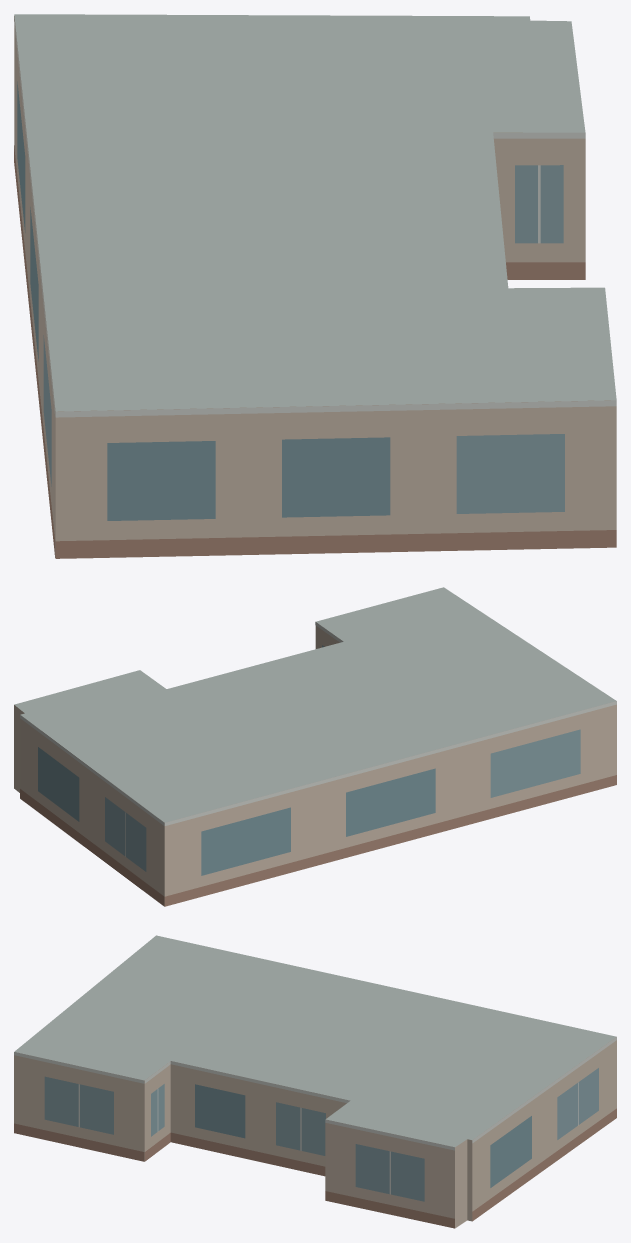
Rendered from survey-upis-32543907.glb.
3 views of the same model, one above another, from view 1: azimuth 30°, elevation 25°; view 2: azimuth 150°, elevation 25°; view 3: azimuth 270°, elevation 25° (orthographic). The views are drawn at different scales.
Parts seen in each view (by area): view 1: survey-upis-32543907.tmp; view 2: survey-upis-32543907.tmp; view 3: survey-upis-32543907.tmp.
Boxes of the visible parts, x1,y1,x2,y2 form: survey-upis-32543907.tmp: (14,14,616,558); survey-upis-32543907.tmp: (14,587,616,906); survey-upis-32543907.tmp: (14,935,616,1228).
Size of the model in its own units: 17.07 by 3.05 by 20.51.
